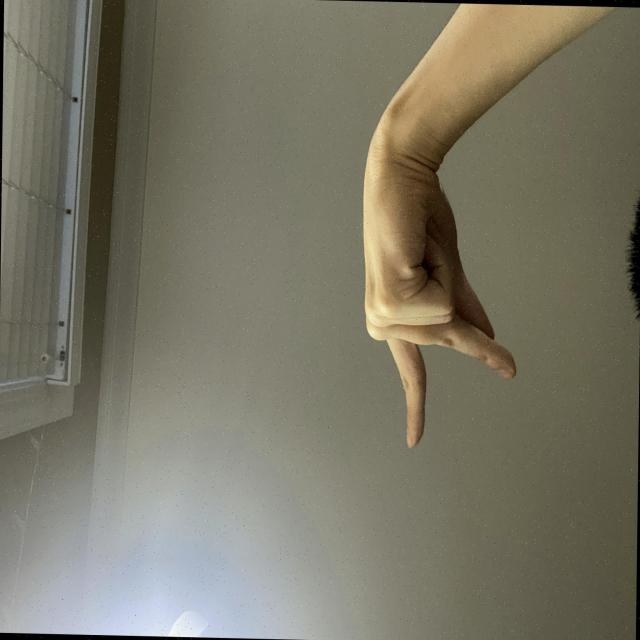P: (134, 471, 412, 640)
